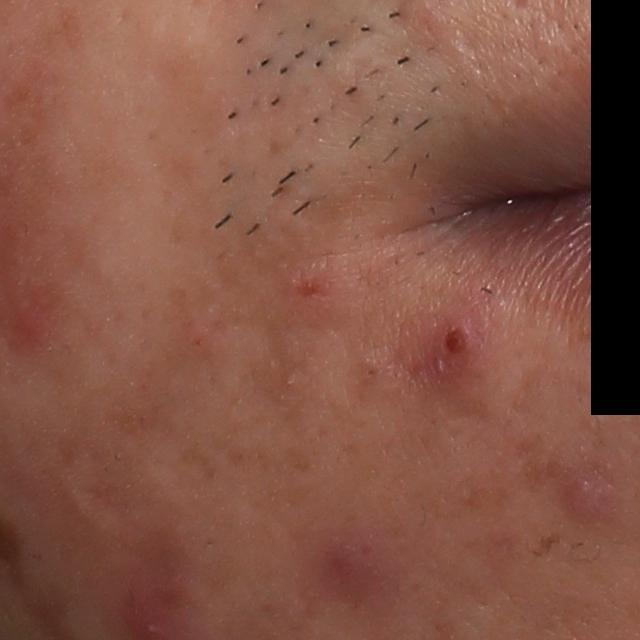papule: (421, 315, 494, 384), (557, 476, 610, 528), (283, 267, 340, 312)
